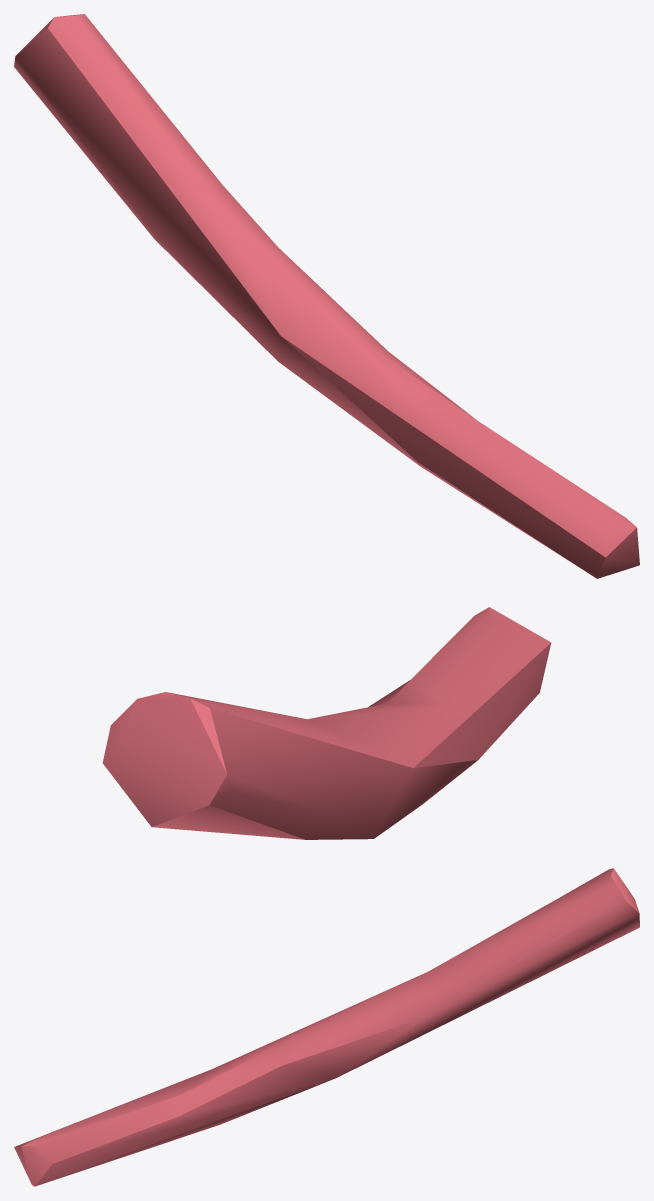
The model's file is fma68693_fj2986.glb.
3 renders of one model, top to bottom at view 1: azimuth 30°, elevation 25°; view 2: azimuth 150°, elevation 25°; view 3: azimuth 270°, elevation 25°, orthographic. The views are drawn at different scales.
Visible parts, largest first — view 1: FMA68693_FJ2986; view 2: FMA68693_FJ2986; view 3: FMA68693_FJ2986.
Part boxes in pixels (bbox=[...]): FMA68693_FJ2986: bbox=[14, 14, 639, 578]; FMA68693_FJ2986: bbox=[102, 607, 551, 839]; FMA68693_FJ2986: bbox=[14, 868, 639, 1186].
Bounding box in the file's own units: 0.00782 × 0.0101 × 0.0237.
